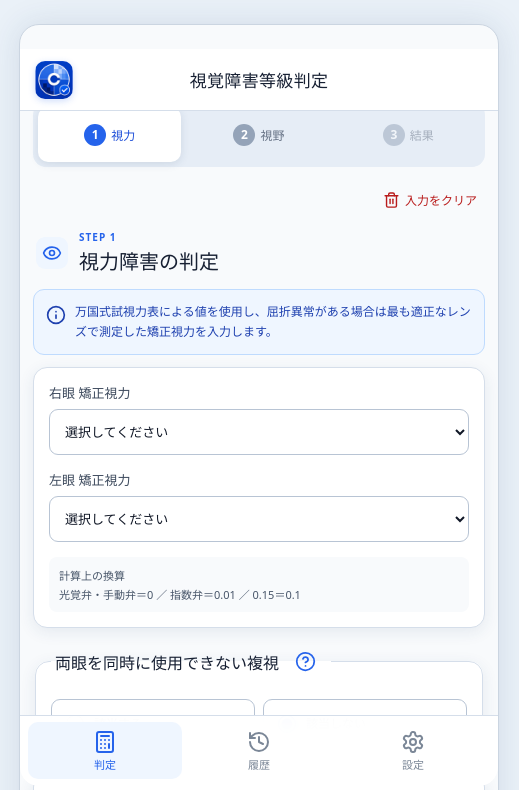
判定フロー › 複視で指定した眼だけを0扱いし実測視力と根拠を表示する
The image size is (519, 790).
Select "0.8" in the dropdown labelled "右眼 矯正視力": (259, 432) [49, 409, 469, 455]
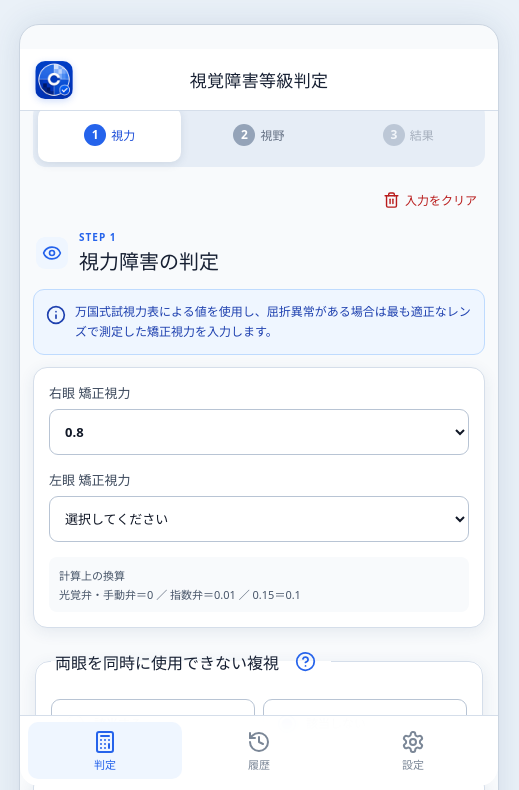
Select "0.04" in the dropdown labelled "左眼 矯正視力": (259, 519) [49, 496, 469, 542]
(page scrolled)
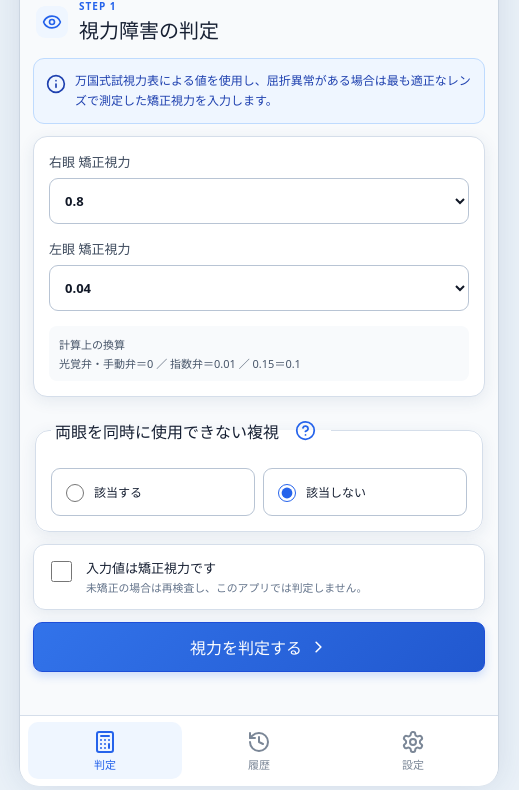
Click the checkbox labelled "入力値は矯正視力です 未矯正の場合は再検査し、このアプリでは判定しません。": (62, 571) [51, 561, 72, 582]
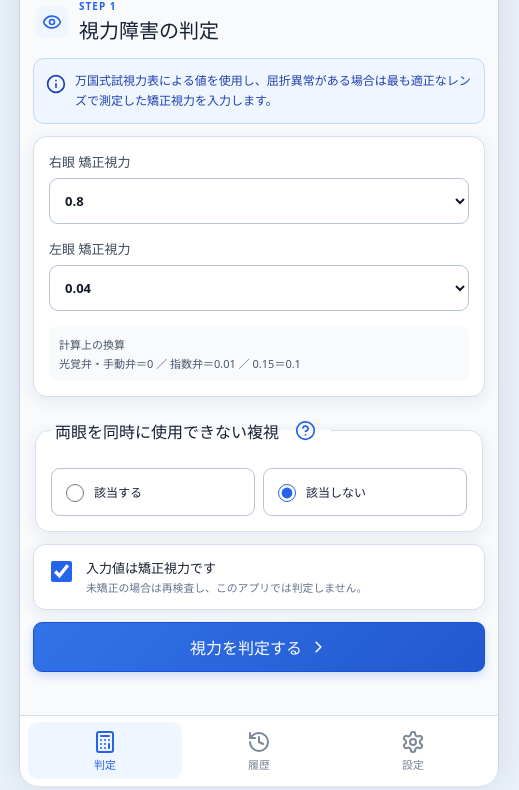
Click the radio button labelled "該当する": (75, 493) [66, 484, 84, 502]
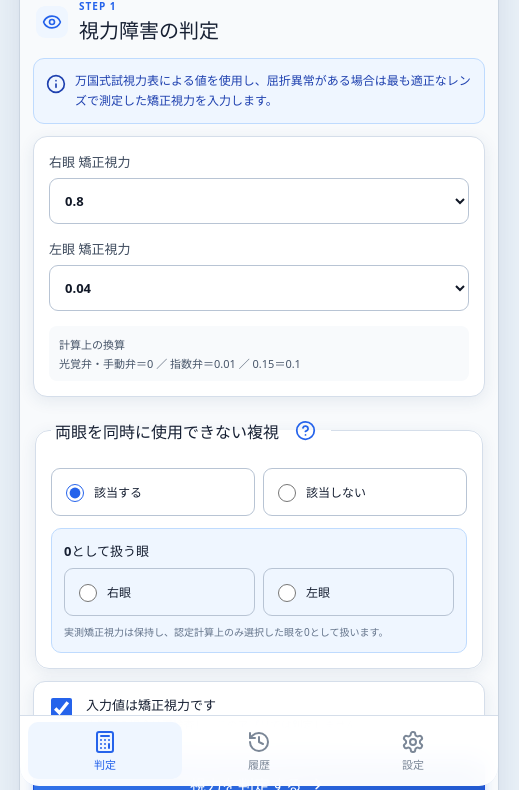
Click the radio button labelled "右眼": (88, 593) [79, 584, 97, 602]
(page scrolled)
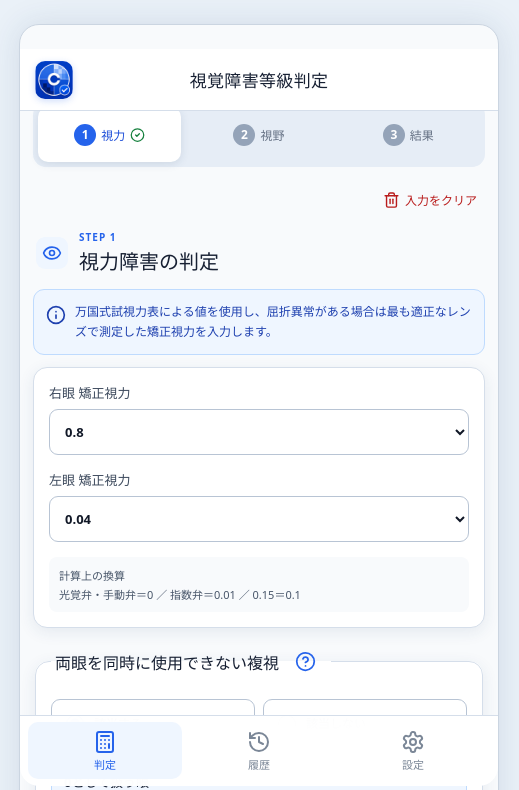
Click the button "3 結果": (408, 134) [337, 107, 480, 162]
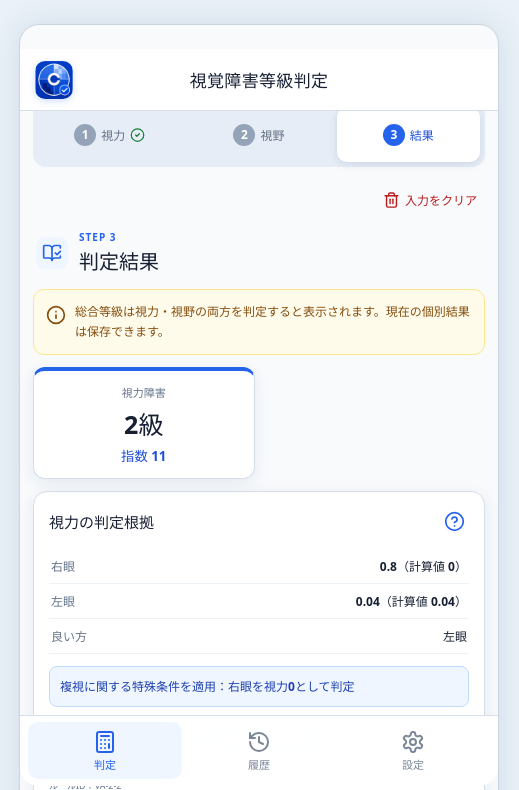
expect the text "複視に関する特殊条件を適用：右眼を視力0として判定" is shown: met, box [49, 666, 469, 707]
expect the text "2級" is shown: met, box [124, 405, 163, 441]
